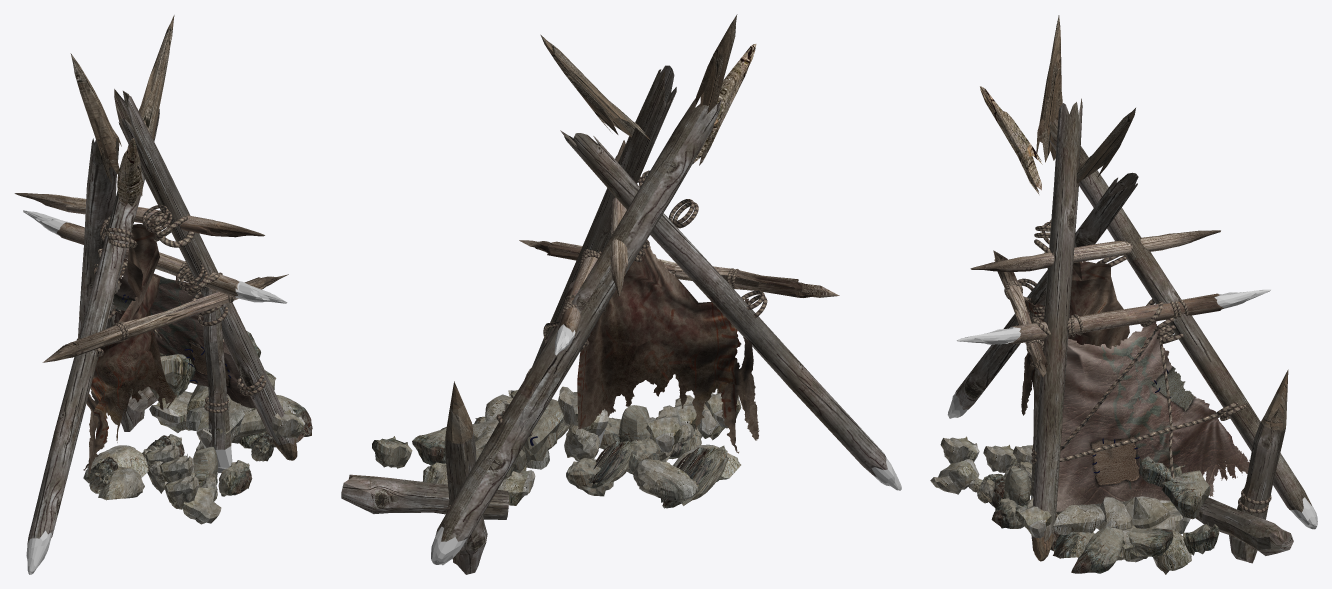
File: HouseThird.FBX
3 views of the same model, side by side, from view 1: azimuth 30°, elevation 25°; view 2: azimuth 150°, elevation 25°; view 3: azimuth 270°, elevation 25° (orthographic). The views are drawn at different scales.
Parts seen in each view (by area): view 1: Cylinder238 (×2), Plane03, Cylinder364, Plane02, Cylinder408, Cylinder406, Cylinder409, mu, mu01, Cylinder407, mu02, f石块74 (+17 smaller); view 2: Plane03, Cylinder408, Cylinder238 (×2), Cylinder364, Cylinder410, Cylinder406, mu, Cylinder347, mu02, f石块66, f石块77, f石块86 (+12 smaller); view 3: Plane02, Cylinder364, Cylinder408, Cylinder238 (×2), Plane03, Cylinder347, Cylinder407, Cylinder410, mu01, mu02, f石块63, f石块62 (+23 smaller).
Part boxes in pixels (bbox=[...]): Cylinder238 (×2): bbox=[14, 109, 264, 543]; Plane03: bbox=[83, 224, 175, 474]; Cylinder364: bbox=[114, 89, 294, 445]; Plane02: bbox=[112, 258, 255, 408]; Cylinder408: bbox=[78, 138, 119, 338]; Cylinder406: bbox=[42, 274, 288, 362]; Cylinder409: bbox=[203, 287, 232, 473]; mu: bbox=[26, 15, 174, 574]; mu01: bbox=[70, 53, 297, 460]; Cylinder407: bbox=[56, 222, 239, 298]; mu02: bbox=[117, 138, 143, 206]; f石块74: bbox=[98, 466, 144, 500]; Plane03: bbox=[577, 243, 759, 453]; Cylinder408: bbox=[436, 98, 721, 541]; Cylinder238 (×2): bbox=[560, 130, 887, 477]; Cylinder364: bbox=[532, 65, 676, 366]; Cylinder410: bbox=[341, 474, 508, 519]; Cylinder406: bbox=[519, 240, 839, 297]; mu: bbox=[540, 34, 901, 490]; Cylinder347: bbox=[445, 433, 487, 574]; mu02: bbox=[431, 44, 756, 565]; f石块66: bbox=[633, 459, 698, 500]; f石块77: bbox=[661, 445, 728, 508]; f石块86: bbox=[501, 399, 563, 472]; Plane02: bbox=[1056, 321, 1249, 511]; Cylinder364: bbox=[1031, 98, 1082, 541]; Cylinder408: bbox=[1049, 119, 1311, 512]; Cylinder238 (×2): bbox=[955, 172, 1220, 409]; Plane03: bbox=[1021, 261, 1129, 415]; Cylinder347: bbox=[1229, 421, 1285, 563]; Cylinder407: bbox=[1007, 293, 1223, 344]; Cylinder410: bbox=[1195, 497, 1293, 555]; mu01: bbox=[1032, 15, 1062, 561]; mu02: bbox=[980, 86, 1317, 529]; f石块63: bbox=[1071, 526, 1123, 573]; f石块62: bbox=[1161, 470, 1210, 519].
Size of what is drawn, in the model's own units: 10470 by 13583 by 10018.
